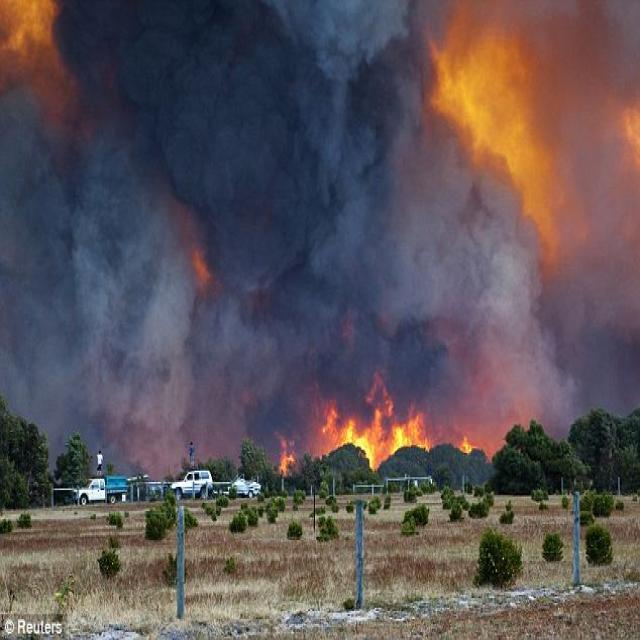Fire: (268, 378, 496, 488)
Smoke: (0, 0, 640, 480)
